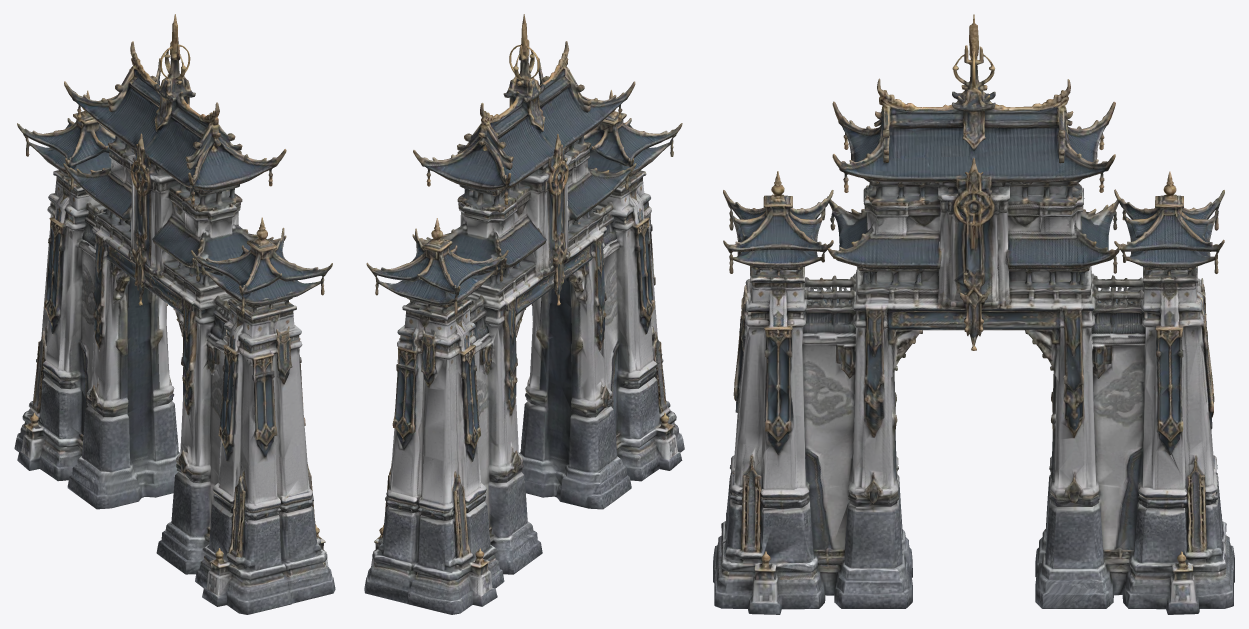
3 views of the same model, side by side, from view 1: azimuth 30°, elevation 25°; view 2: azimuth 150°, elevation 25°; view 3: azimuth 270°, elevation 25° (orthographic). The views are drawn at different scales.
Visible parts, largest first — view 1: tripo_node_de42e718-2308-401a-99ea-1ceacb56e039; view 2: tripo_node_de42e718-2308-401a-99ea-1ceacb56e039; view 3: tripo_node_de42e718-2308-401a-99ea-1ceacb56e039.
Boxes of the visible parts, <box> form: tripo_node_de42e718-2308-401a-99ea-1ceacb56e039: <box>14,14,335,614</box>; tripo_node_de42e718-2308-401a-99ea-1ceacb56e039: <box>364,14,684,614</box>; tripo_node_de42e718-2308-401a-99ea-1ceacb56e039: <box>713,14,1234,614</box>.
Size of the model in its own units: 0.2468 by 0.9998 by 0.8315.
1 material, 1 textured.
